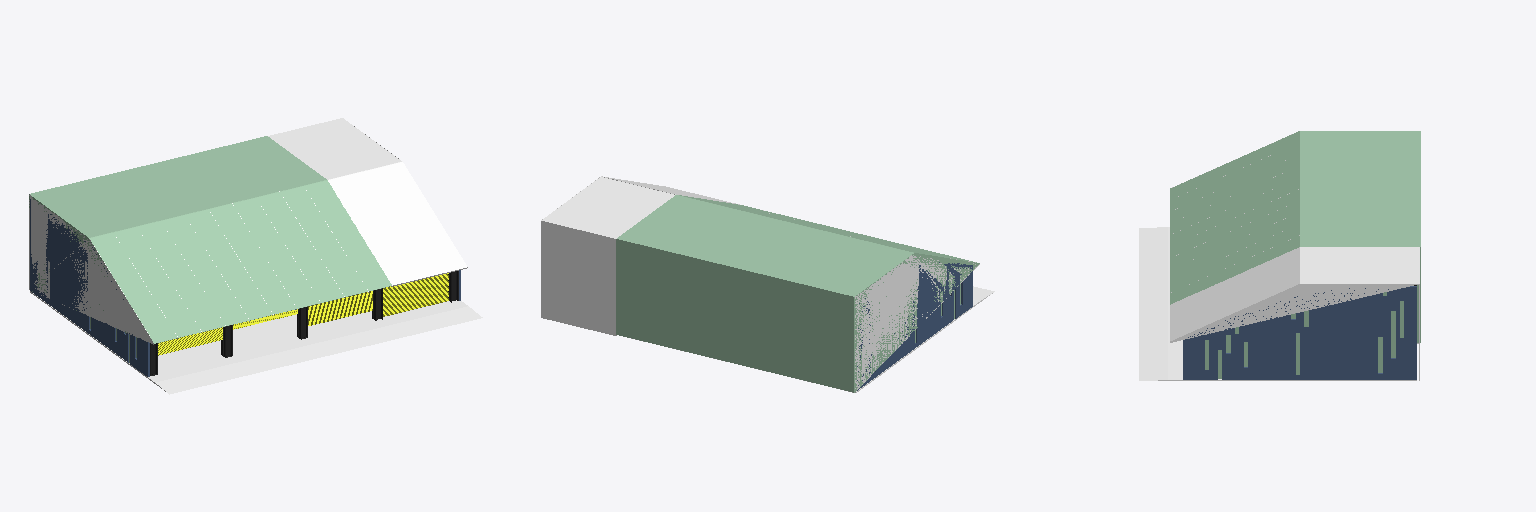
File: house13.obj
3 renders of one model, left to right at view 1: azimuth 30°, elevation 25°; view 2: azimuth 150°, elevation 25°; view 3: azimuth 270°, elevation 25°, orthographic.
Parts seen in each view (by area): view 1: Mesh1 Group1 Model, Mesh6 ___16_1 Group2 Model, Mesh193 Group37 Model, Mesh227 Group43 ___3_2 Model, Mesh5 ___7_4 Group2 Model, Mesh222 ___8_4 Model, Mesh219 ___8_3 Model, Mesh217 ___8_1 Model; view 2: Mesh1 Group1 Model, Mesh6 ___16_1 Group2 Model, Mesh5 ___7_4 Group2 Model, Mesh227 Group43 ___3_2 Model; view 3: Mesh1 Group1 Model, Mesh225 Group42 ___3_1 Model, Mesh6 ___16_1 Group2 Model, Mesh193 Group37 Model, Mesh226 ___1_1 ___3_1 Model.
Part boxes in pixels (bbox=[...]): Mesh1 Group1 Model: bbox=[29, 136, 391, 343]; Mesh6 ___16_1 Group2 Model: bbox=[268, 118, 467, 286]; Mesh193 Group37 Model: bbox=[30, 291, 482, 394]; Mesh227 Group43 ___3_2 Model: bbox=[30, 199, 149, 376]; Mesh5 ___7_4 Group2 Model: bbox=[29, 195, 153, 344]; Mesh222 ___8_4 Model: bbox=[383, 273, 448, 316]; Mesh219 ___8_3 Model: bbox=[308, 291, 372, 325]; Mesh217 ___8_1 Model: bbox=[158, 327, 222, 355]; Mesh1 Group1 Model: bbox=[616, 195, 979, 392]; Mesh6 ___16_1 Group2 Model: bbox=[541, 176, 739, 335]; Mesh5 ___7_4 Group2 Model: bbox=[855, 255, 979, 389]; Mesh227 Group43 ___3_2 Model: bbox=[857, 262, 972, 390]; Mesh1 Group1 Model: bbox=[1170, 131, 1420, 342]; Mesh225 Group42 ___3_1 Model: bbox=[1183, 286, 1416, 379]; Mesh6 ___16_1 Group2 Model: bbox=[1170, 247, 1419, 380]; Mesh193 Group37 Model: bbox=[1139, 227, 1416, 380]; Mesh226 ___1_1 ___3_1 Model: bbox=[1205, 292, 1403, 378].
Size of the model in its own units: 984 by 293 by 765.